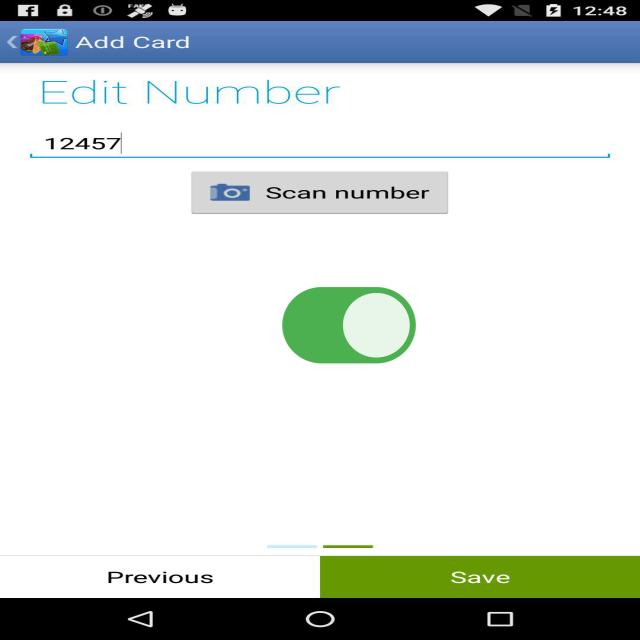social proof: (276, 257, 422, 398)
